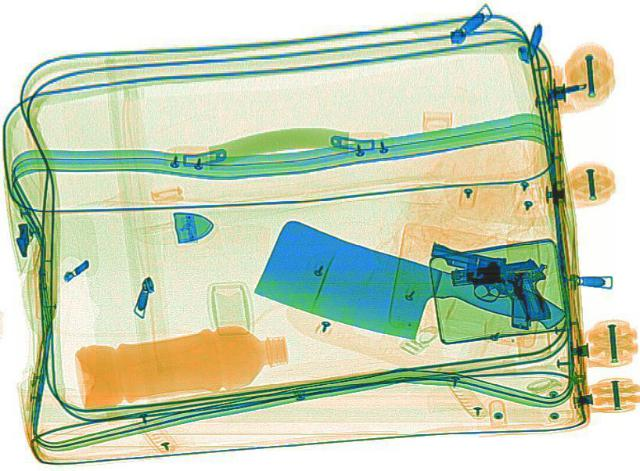Gun: (412, 222, 582, 337), (443, 255, 555, 326)
Knife: (232, 216, 582, 381)
